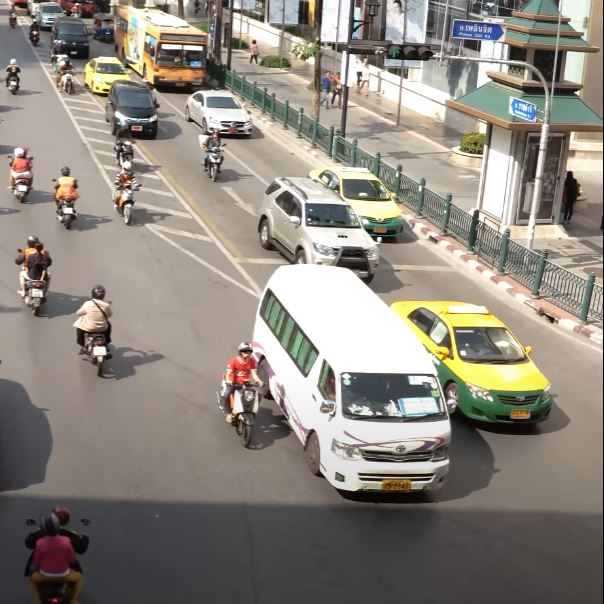Bus: (248, 263, 447, 497), (113, 5, 205, 90)
Car: (387, 299, 551, 429), (257, 174, 380, 284), (307, 165, 404, 239), (184, 87, 254, 139), (108, 79, 159, 137), (84, 56, 131, 97), (50, 17, 91, 58), (36, 3, 64, 30)
Motorcycle: (22, 505, 94, 604), (216, 342, 265, 447), (74, 283, 118, 379), (15, 235, 55, 318), (110, 159, 143, 225), (51, 166, 83, 229), (197, 129, 228, 183), (8, 147, 37, 204), (114, 120, 138, 171), (57, 57, 77, 96), (3, 57, 23, 94), (25, 16, 42, 47), (6, 2, 20, 28)
TukTuk: (90, 12, 115, 43)
